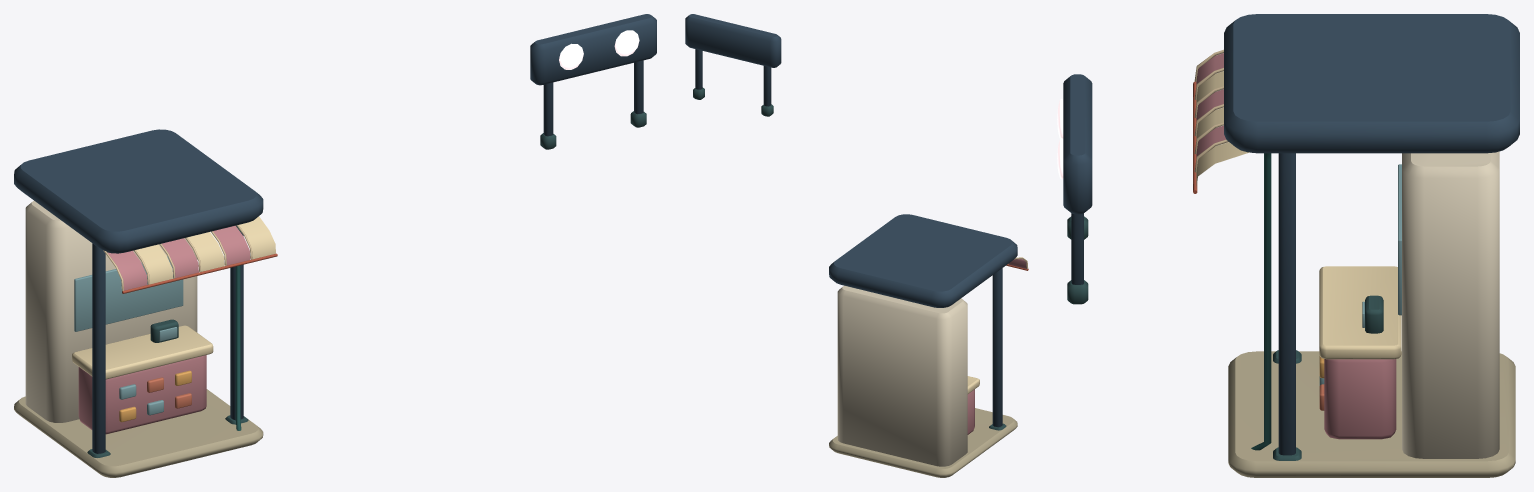
The model's file is luxury_restaurant_4.glb.
3 renders of one model, left to right at view 1: azimuth 30°, elevation 25°; view 2: azimuth 150°, elevation 25°; view 3: azimuth 270°, elevation 25°, orthographic. The views are drawn at different scales.
Parts seen in each view (by area): view 1: LuxuryRestaurant4; view 2: LuxuryRestaurant4; view 3: LuxuryRestaurant4.
Part boxes in pixels (<box>): LuxuryRestaurant4: <box>14,14,656,477</box>; LuxuryRestaurant4: <box>685,14,1028,477</box>; LuxuryRestaurant4: <box>1057,14,1519,477</box>.
Size of the model in its own units: 7.15 by 5.3 by 3.99.
